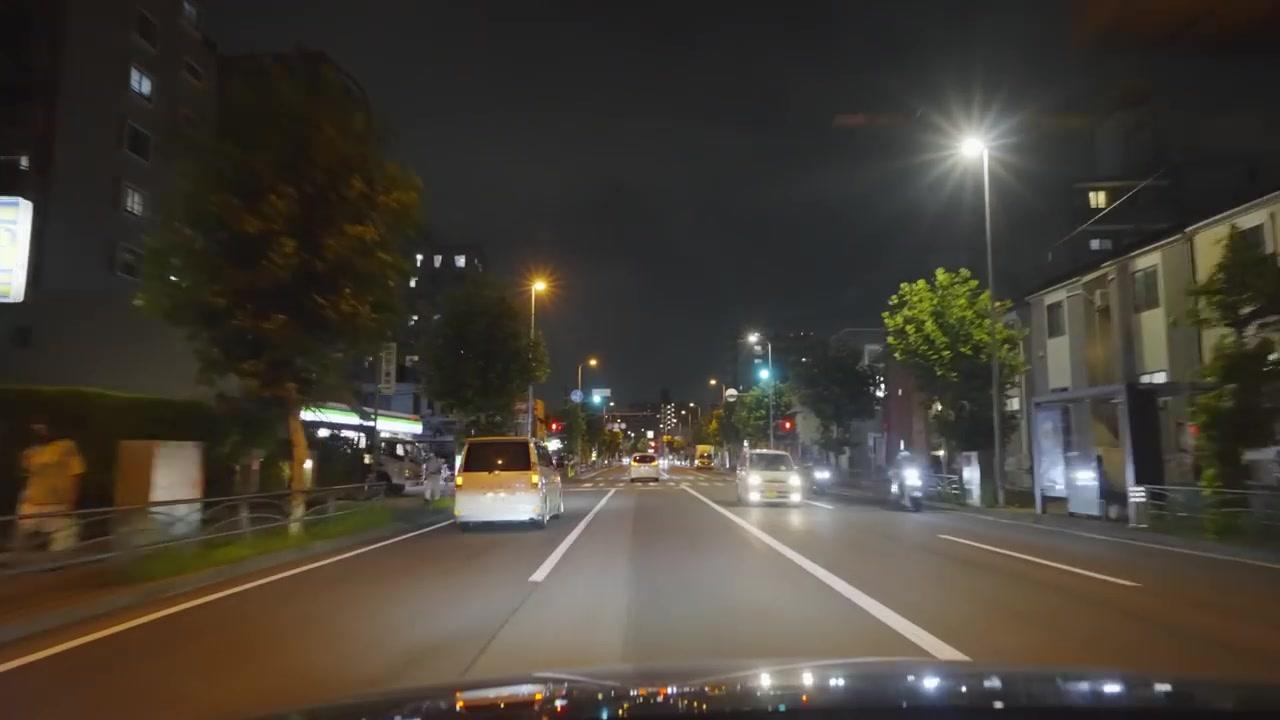bus: (453, 435, 565, 531)
car: (450, 435, 565, 531), (736, 449, 803, 504), (887, 457, 927, 511), (629, 454, 660, 482), (810, 463, 836, 494)
person: (15, 415, 86, 551)
traffic light: (753, 345, 771, 386), (776, 416, 795, 435), (549, 420, 564, 435)
